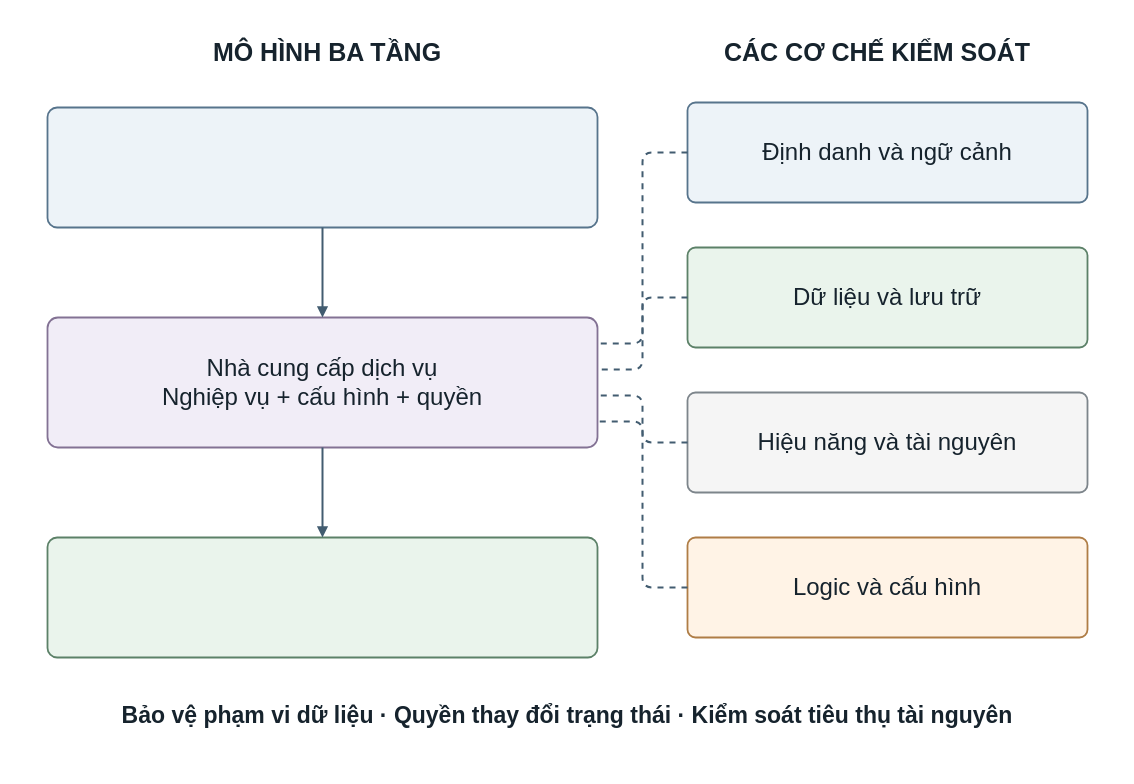
The diagram is 1134 pixels wide and 784 high, and some of its shapes have lost their labels. The box of each missing label's shape, as (x1, y1, x2, y2) in pixels:
Instance và hạ tầng App Server + Database Server: (46, 536, 598, 658)
Người thuê Tenant A, B và các user: (46, 106, 598, 228)
